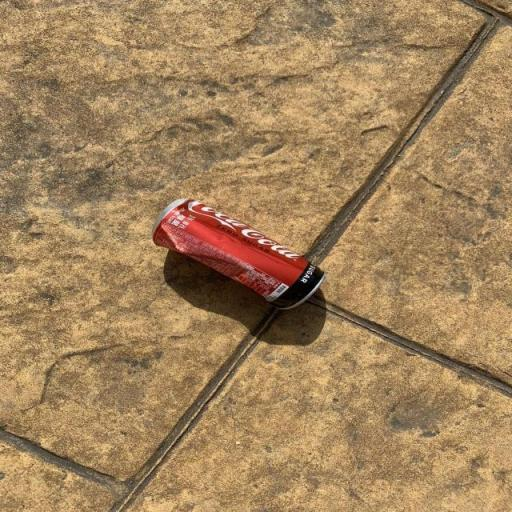metal: (138, 185, 336, 320)
